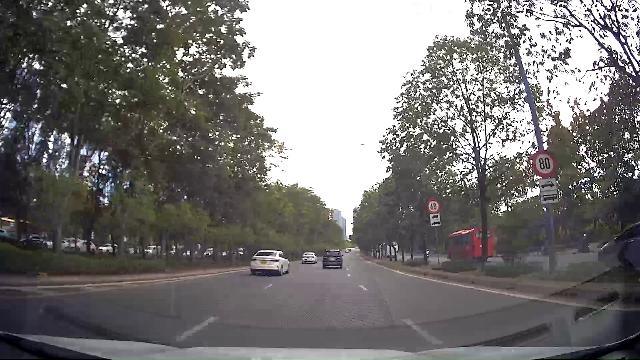127-toc-do-toi-da-60: (427, 198, 441, 213)
127-toc-do-toi-da-80: (533, 150, 557, 177)
